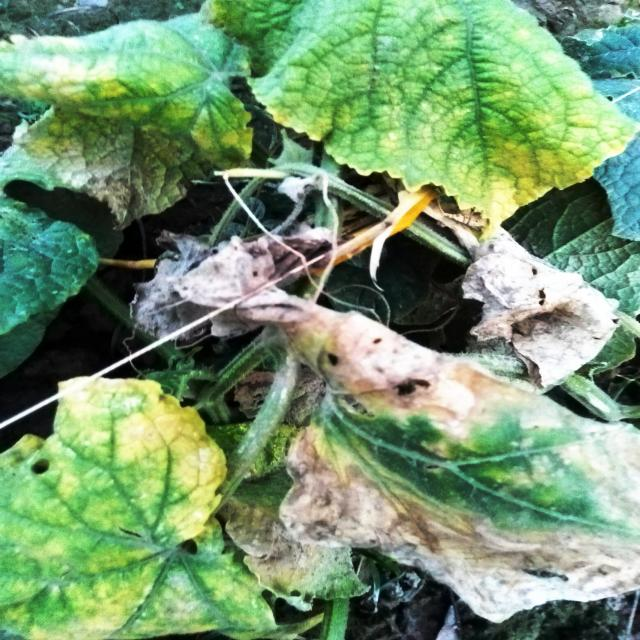Bacterial-Wilt: (461, 229, 621, 395), (128, 226, 332, 340)
